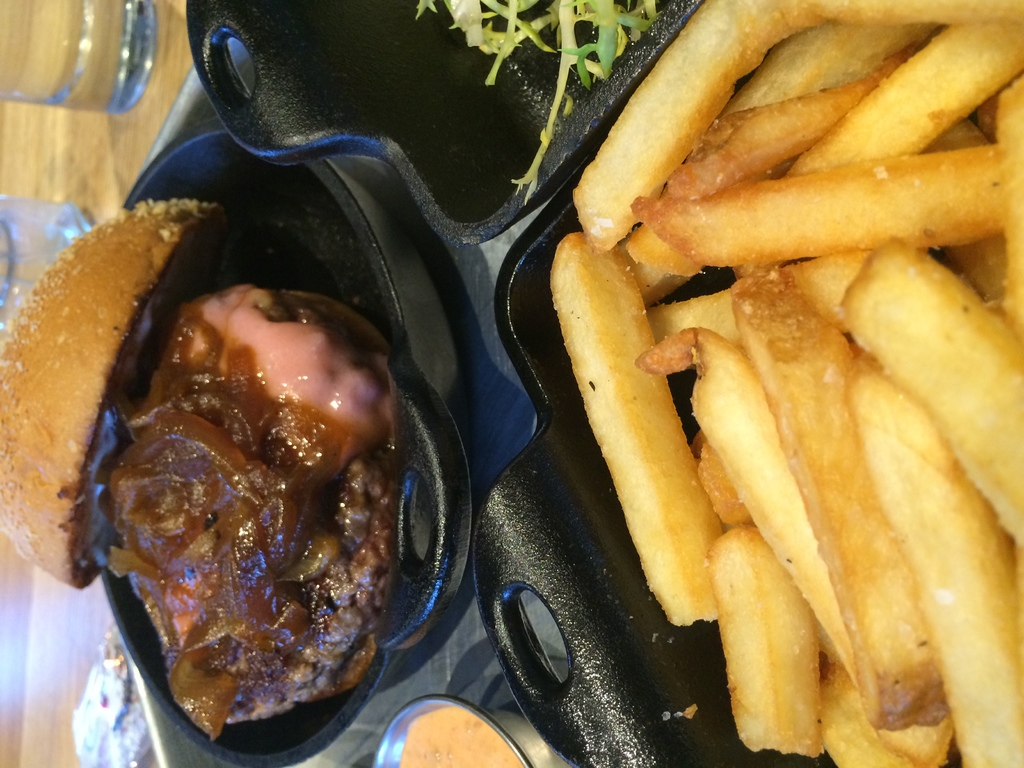French fries: (495, 33, 1024, 768)
